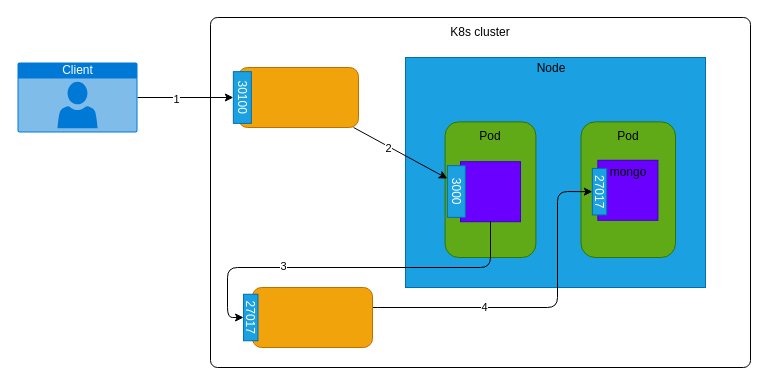
Image size: 768x385. Some labels were removed from this diagram. Here are the shapes that lost their labels. From the top down, the box of each, then its label:
(238, 66, 358, 128): webapp-service
(460, 161, 520, 222): webapp
(252, 286, 372, 348): mongo-service
